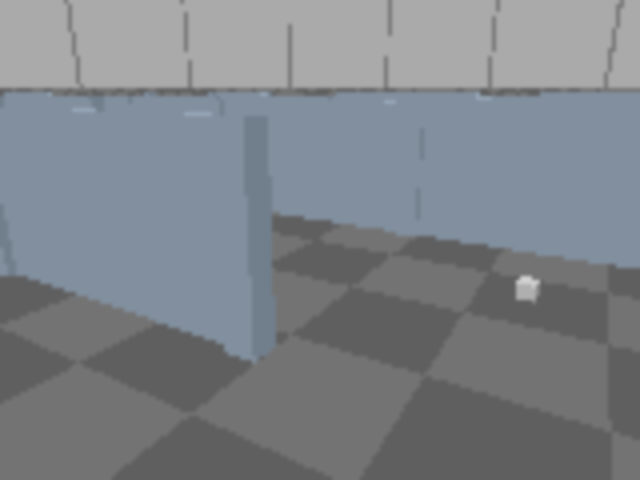puck: (514, 276, 541, 302)
